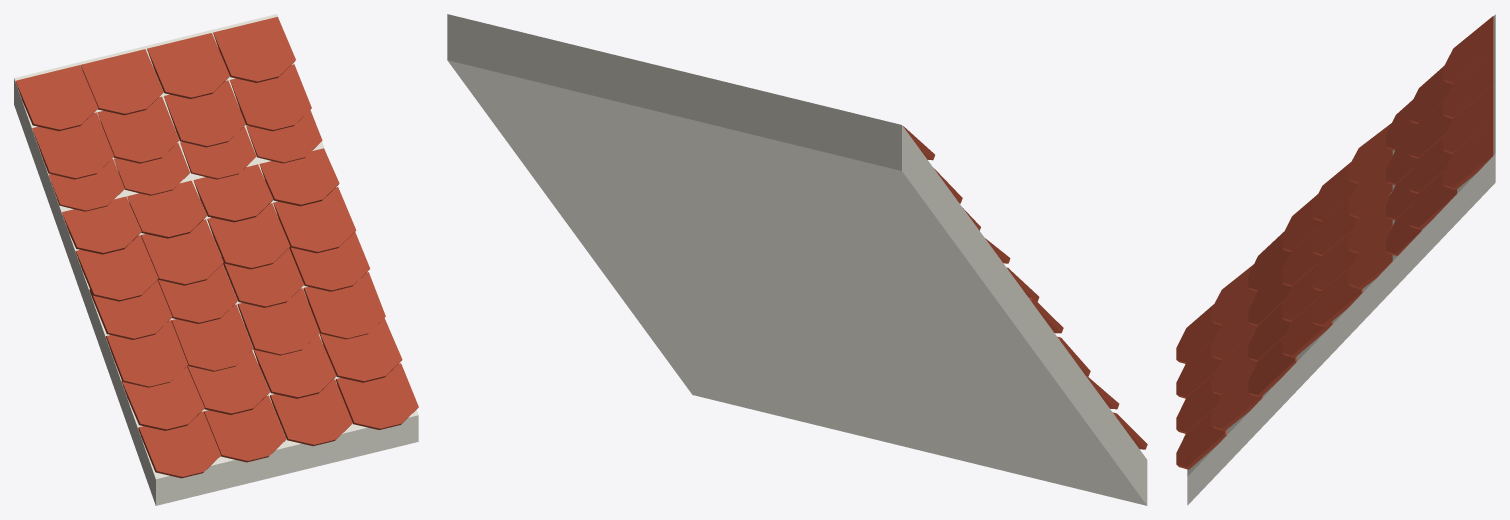
File: Roof01_house4.obj
The picture shows the model from 3 angles, left to right: view 1: azimuth 30°, elevation 25°; view 2: azimuth 150°, elevation 25°; view 3: azimuth 270°, elevation 25°; orthographic projection. The views are drawn at different scales.
Parts seen in each view (by area): view 1: Roof01_house04.001_Cube.001; view 2: Roof01_house04.001_Cube.001; view 3: Roof01_house04.001_Cube.001.
Boxes of the visible parts, <box> form: Roof01_house04.001_Cube.001: <box>14,14,418,505</box>; Roof01_house04.001_Cube.001: <box>447,14,1147,505</box>; Roof01_house04.001_Cube.001: <box>1176,14,1495,505</box>.
Size of the model in its own units: 2.23 by 2.62 by 2.15.
